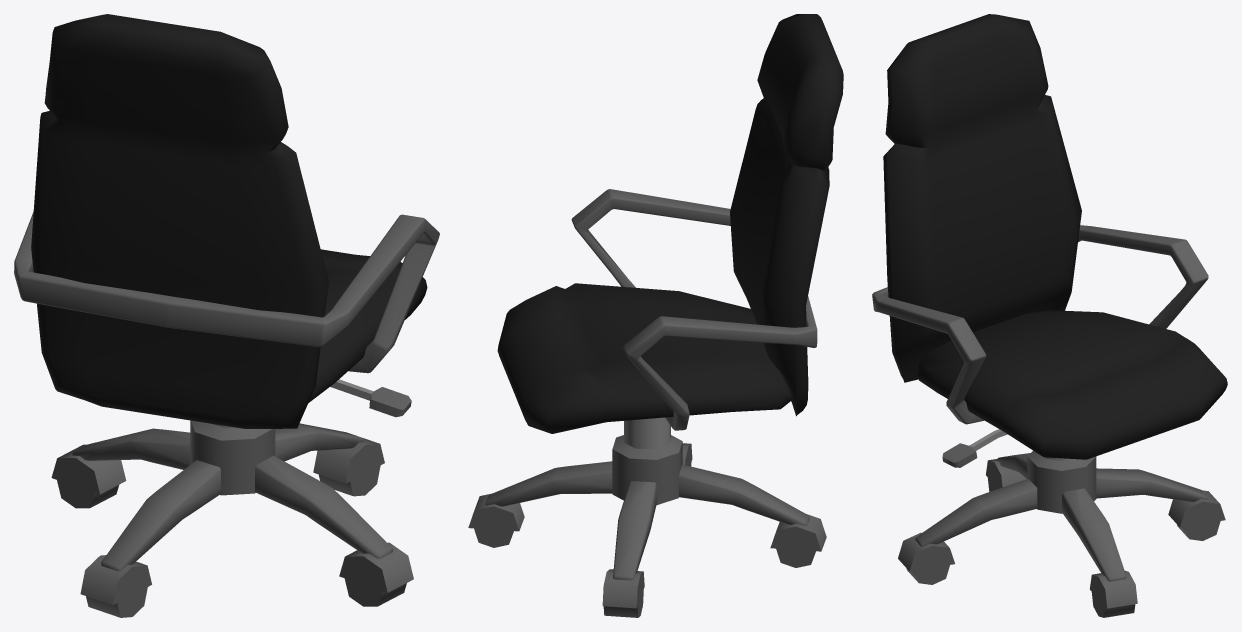
The model's file is chair.glb.
3 views of the same model, side by side, from view 1: azimuth 30°, elevation 25°; view 2: azimuth 150°, elevation 25°; view 3: azimuth 270°, elevation 25° (orthographic). The views are drawn at different scales.
Visible parts, largest first — view 1: Computer Chair; view 2: Computer Chair; view 3: Computer Chair.
Boxes of the visible parts, x1,y1,x2,y2 form: Computer Chair: [14, 14, 439, 617]; Computer Chair: [468, 14, 843, 617]; Computer Chair: [872, 14, 1227, 617].
Size of the model in its own units: 3.13 by 4.63 by 3.13.
1 material, 1 textured.
